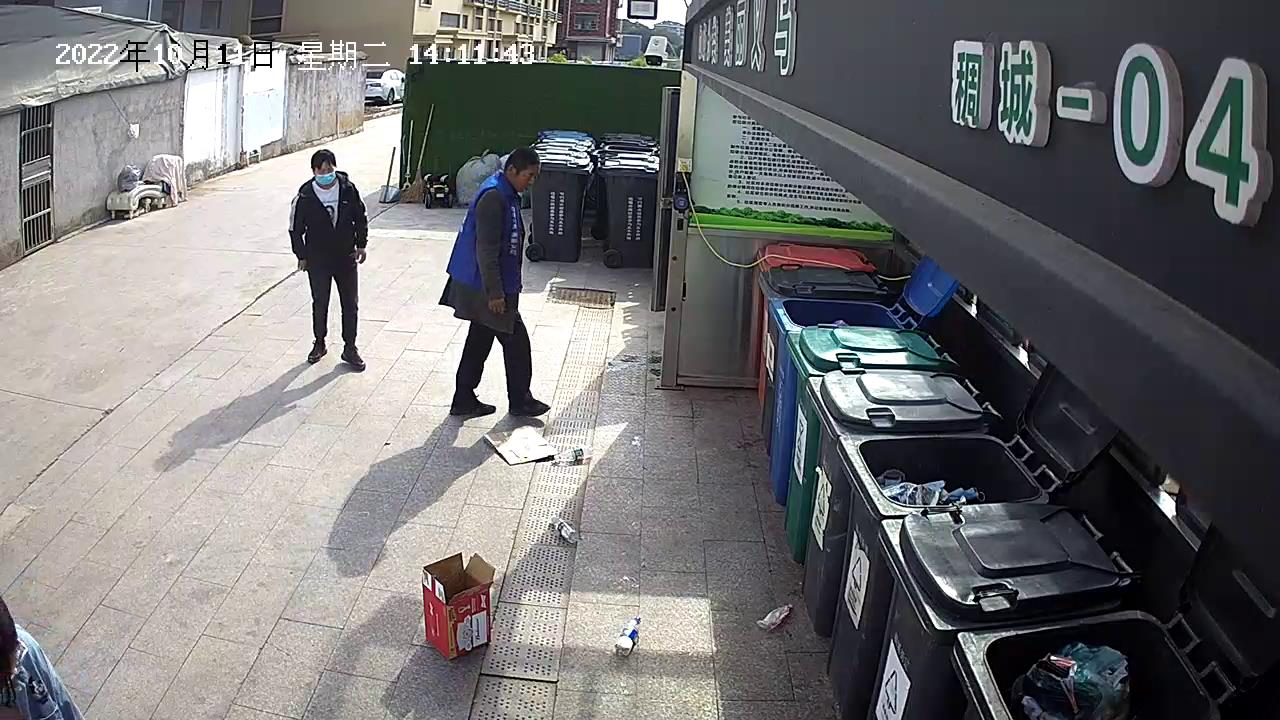person: (285, 147, 370, 372)
suliaozhipin: (612, 614, 642, 660), (754, 601, 794, 631), (551, 443, 597, 468), (548, 512, 579, 544)
worker: (436, 145, 552, 420)
zhizhipin: (419, 550, 498, 663), (481, 423, 561, 469)
